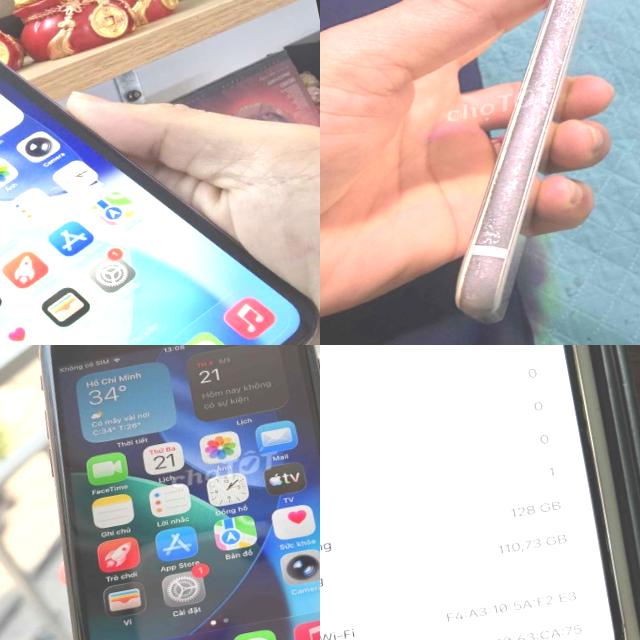scratch: (504, 48, 576, 123), (480, 128, 548, 202), (532, 0, 594, 48), (456, 252, 508, 302), (466, 202, 520, 246)
